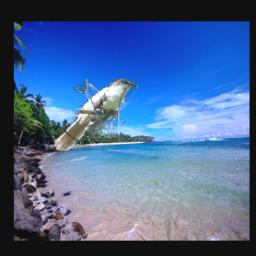Cuckoo: (55, 79, 139, 151)
